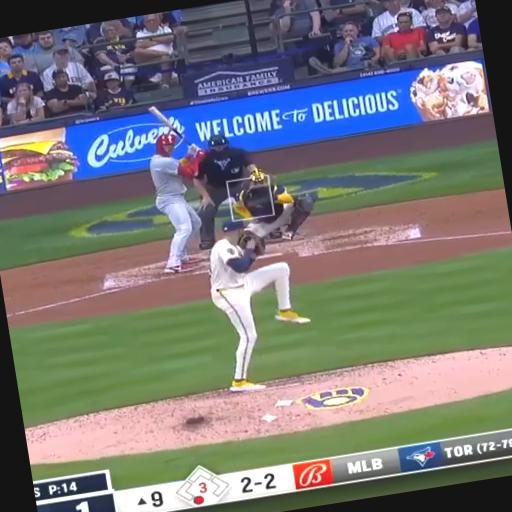bat: (148, 107, 192, 145)
